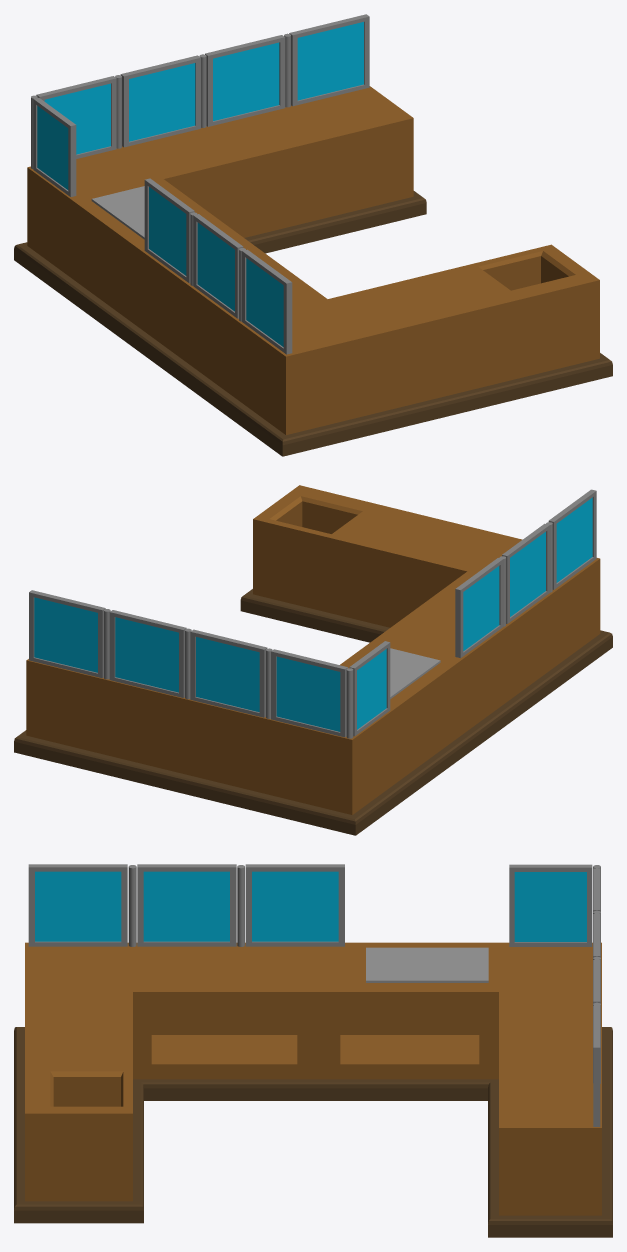
Rendered from CounterSpace.fbx.
3 renders of one model, top to bottom at view 1: azimuth 30°, elevation 25°; view 2: azimuth 150°, elevation 25°; view 3: azimuth 270°, elevation 25°, orthographic. The views are drawn at different scales.
Visible parts, largest first — view 1: Cube; view 2: Cube; view 3: Cube.
Part boxes in pixels (left/top/right/bottom): Cube: left=14, top=14, right=612, bottom=456; Cube: left=14, top=485, right=612, bottom=835; Cube: left=14, top=864, right=612, bottom=1237.
Bounding box in the file's own units: 2200 × 977 × 2869.
